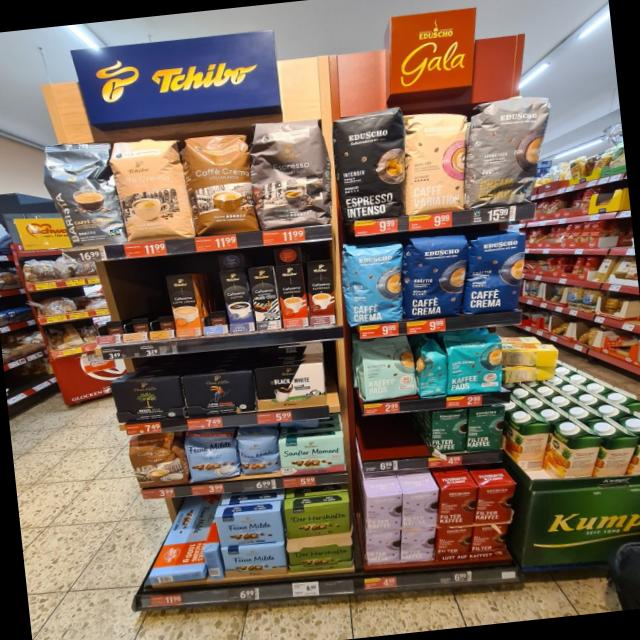BM Gemahlen: (108, 374, 186, 424)
BW Gemahlen: (252, 360, 328, 412)
Barista CC: (40, 134, 124, 250)
CC Mild: (109, 134, 194, 244)
CC Vollmundig: (126, 430, 188, 490)
CC Vollmundig 36 Pads: (180, 128, 259, 236)
Empty Shelf: (194, 269, 226, 327), (120, 274, 149, 334), (94, 278, 122, 336), (146, 274, 173, 330)
Espresso Aromatisch: (248, 111, 334, 230)
FM 36 Pads: (184, 427, 242, 482)
FM Bohne: (236, 429, 280, 477)
FM Gemahlen: (214, 507, 286, 548), (220, 540, 288, 580)
Herzhatfe Mundig: (282, 500, 352, 540), (287, 538, 354, 573)
LG Gemahlen: (181, 368, 256, 418)
SM Gemahlen: (277, 432, 347, 478)
Simo CCVollmundig bigpack: (166, 272, 202, 338)
Simo Es Brazil: (276, 263, 310, 329)
Simo Es Caramel: (304, 258, 338, 326)
Simo Es Elegant: (247, 265, 282, 330)
Simo Es Kraft: (219, 267, 256, 333)
